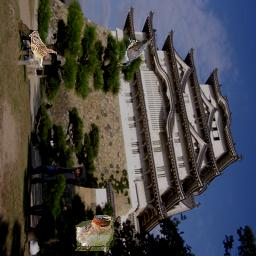Cuckoo: (117, 34, 157, 66)
Sparrow: (29, 30, 57, 70)
Swallow: (75, 215, 115, 251)
